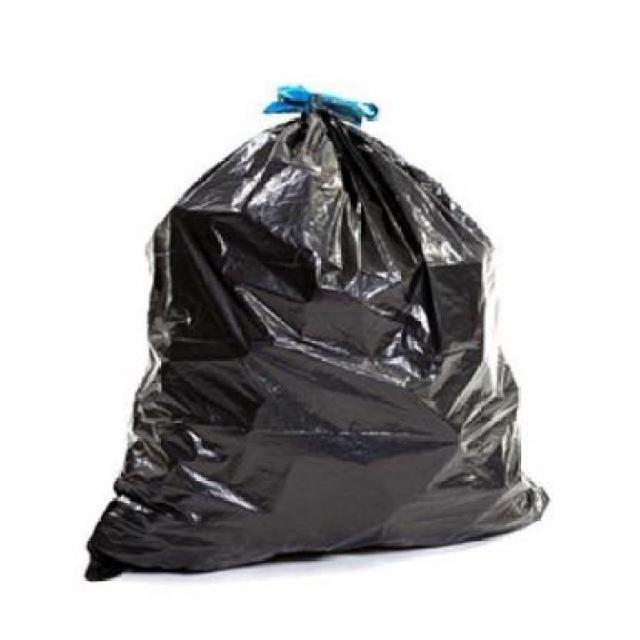garbage: (75, 50, 562, 593)
